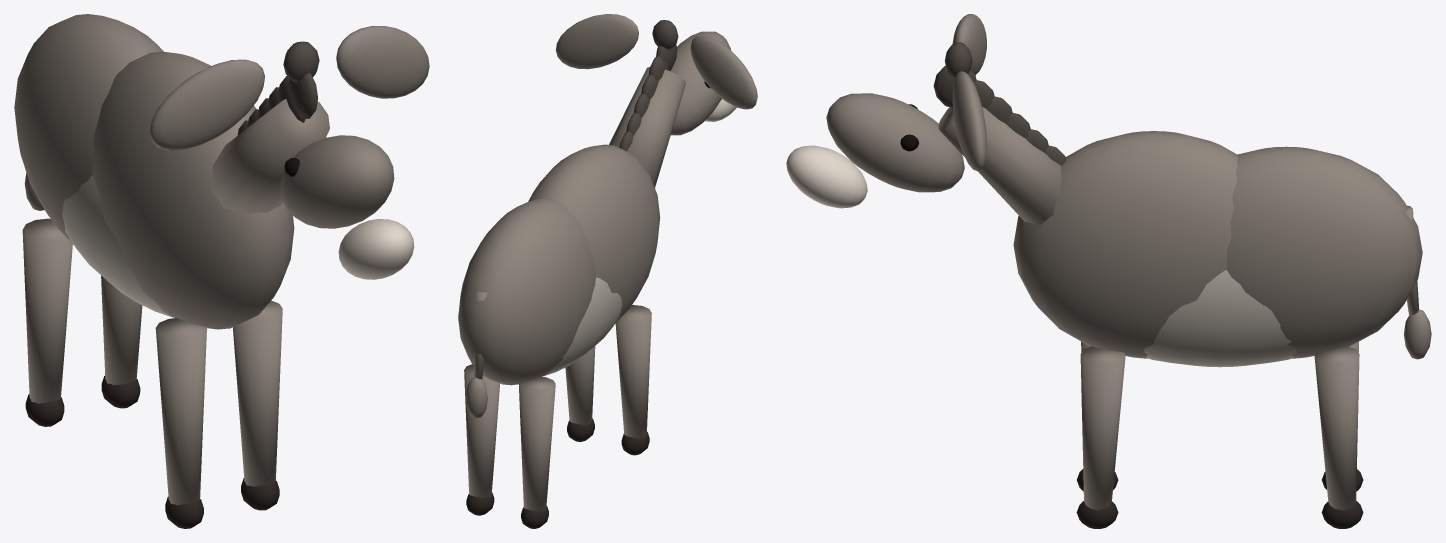
Rendered from donkey.glb.
3 views of the same model, side by side, from view 1: azimuth 30°, elevation 25°; view 2: azimuth 150°, elevation 25°; view 3: azimuth 270°, elevation 25° (orthographic). The views are drawn at different scales.
Parts seen in each view (by area): view 1: donkey; view 2: donkey; view 3: donkey.
Boxes of the visible parts, x1,y1,x2,y2 form: donkey: (14, 14, 429, 528); donkey: (458, 14, 757, 528); donkey: (786, 14, 1431, 528).
Bounding box in the file's own units: 1.02 × 1.86 × 2.32.
